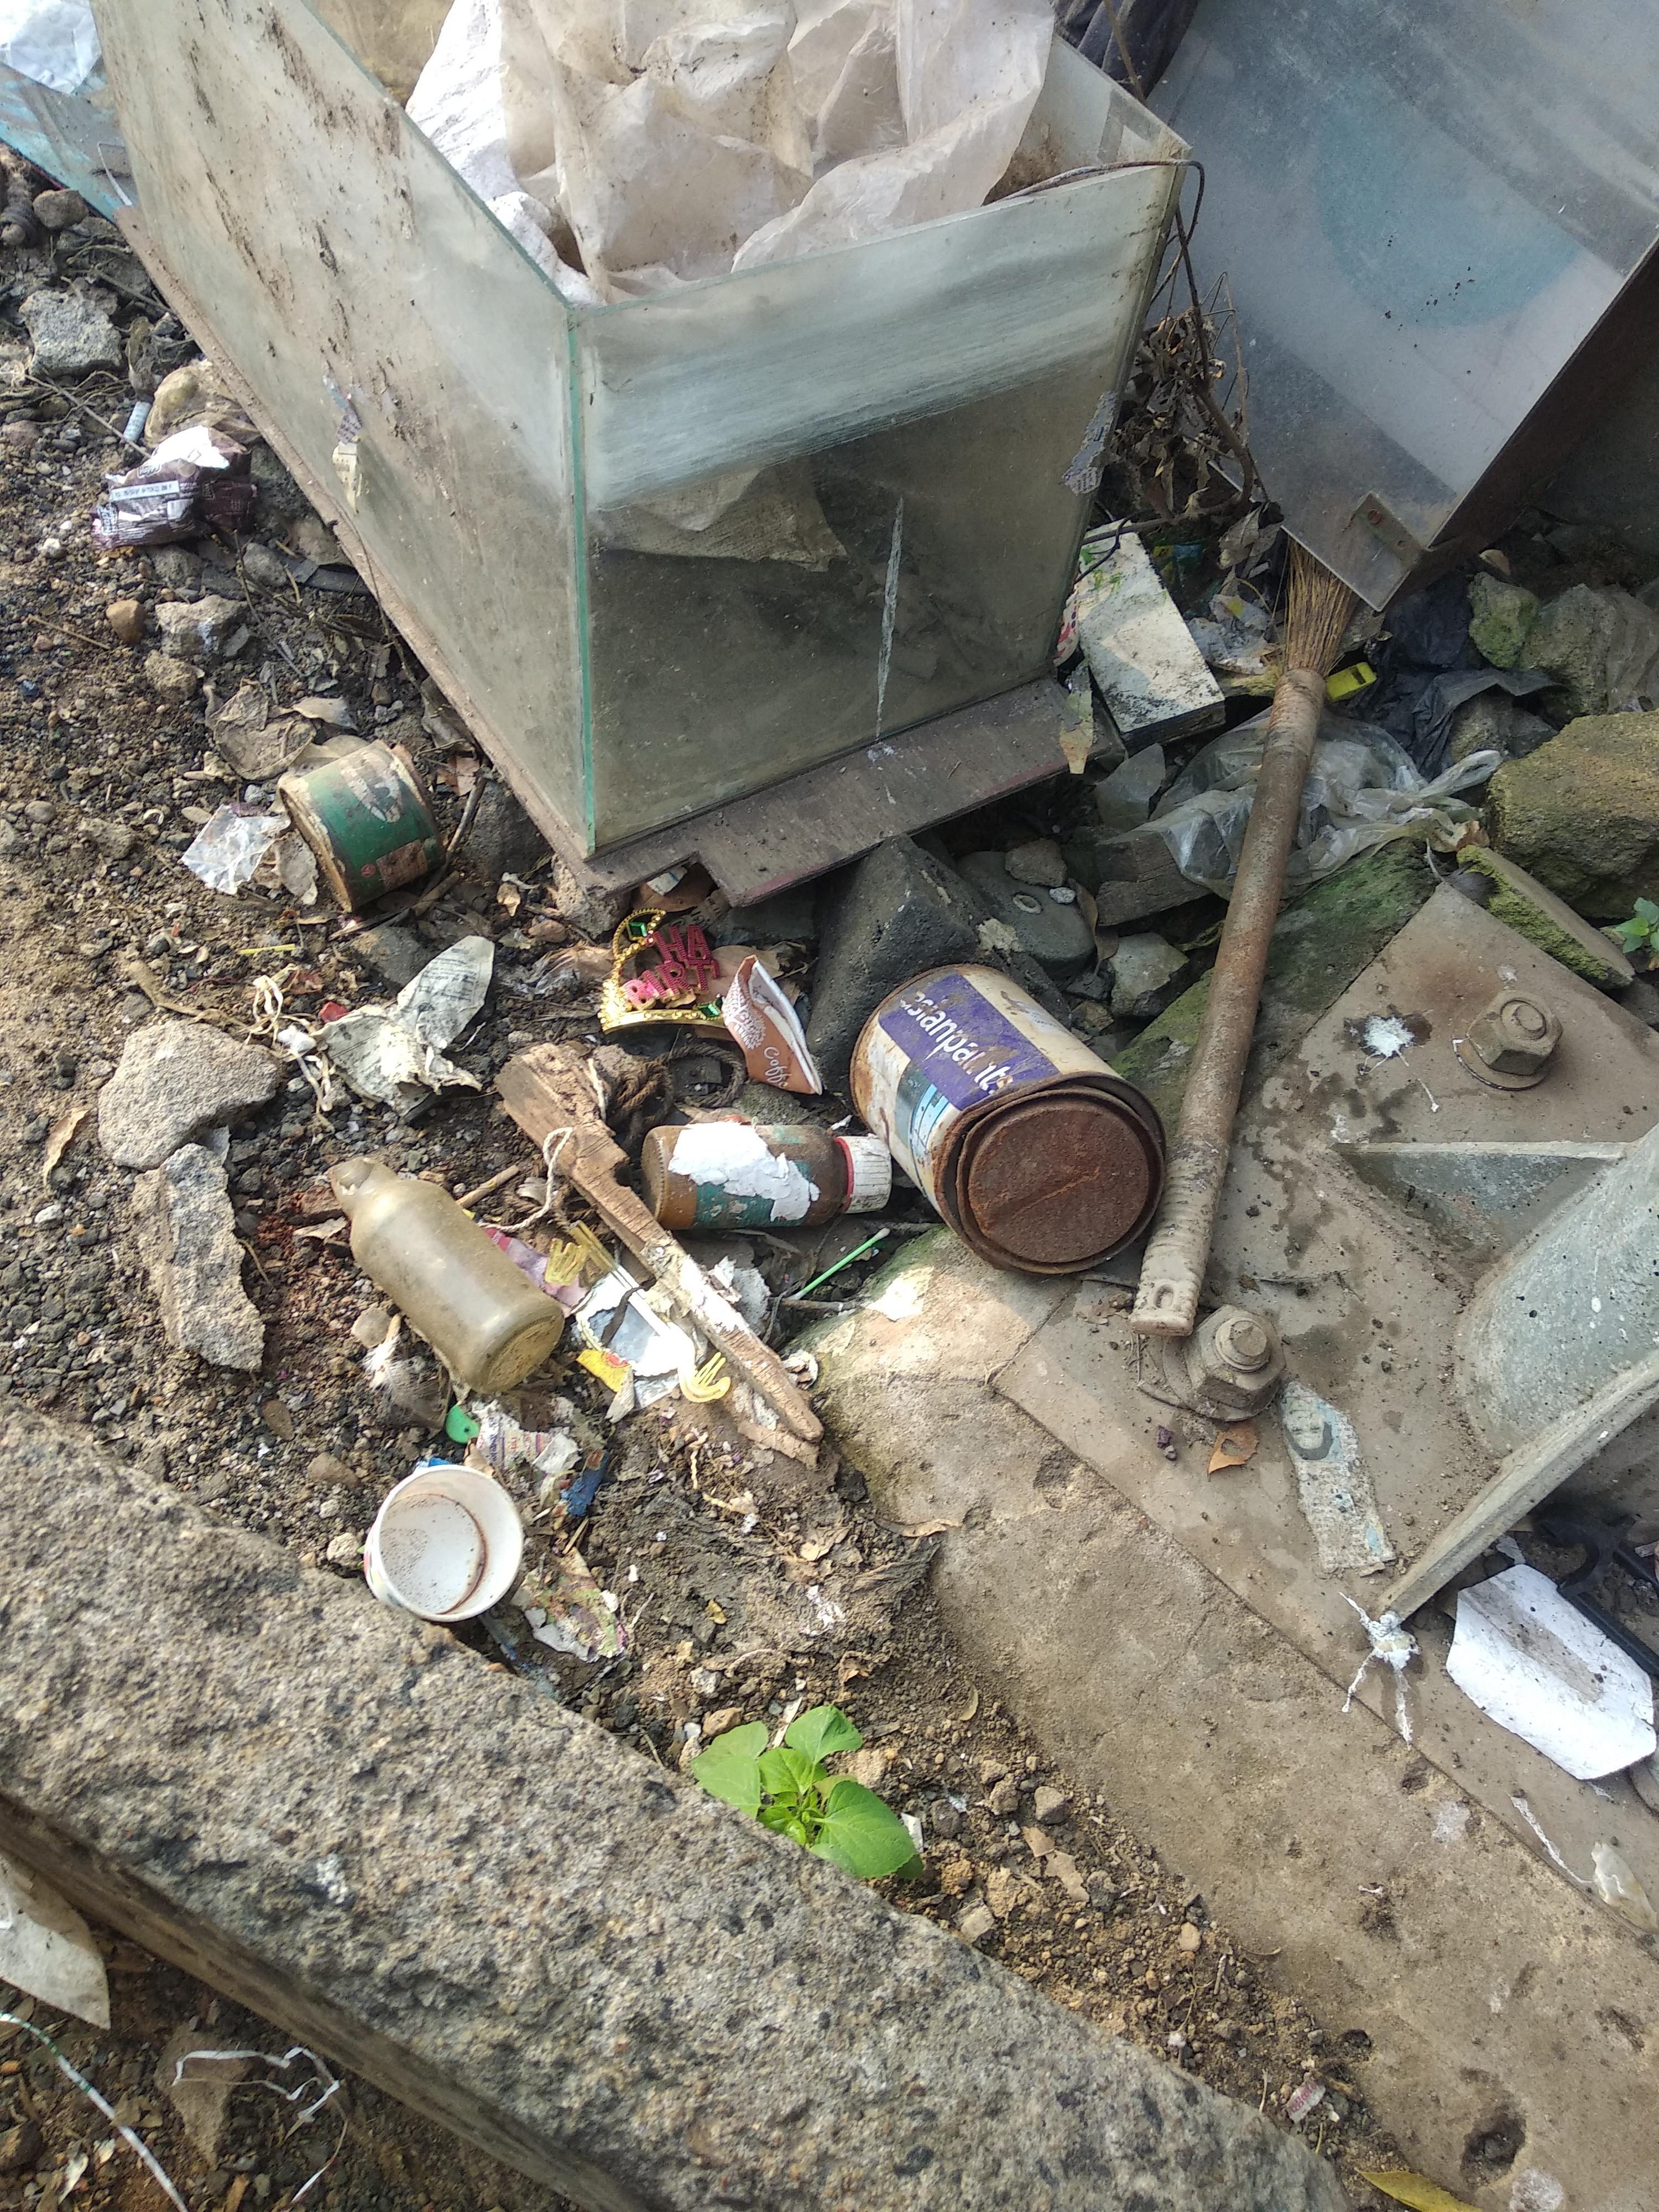trash: (16, 0, 1659, 1909)
